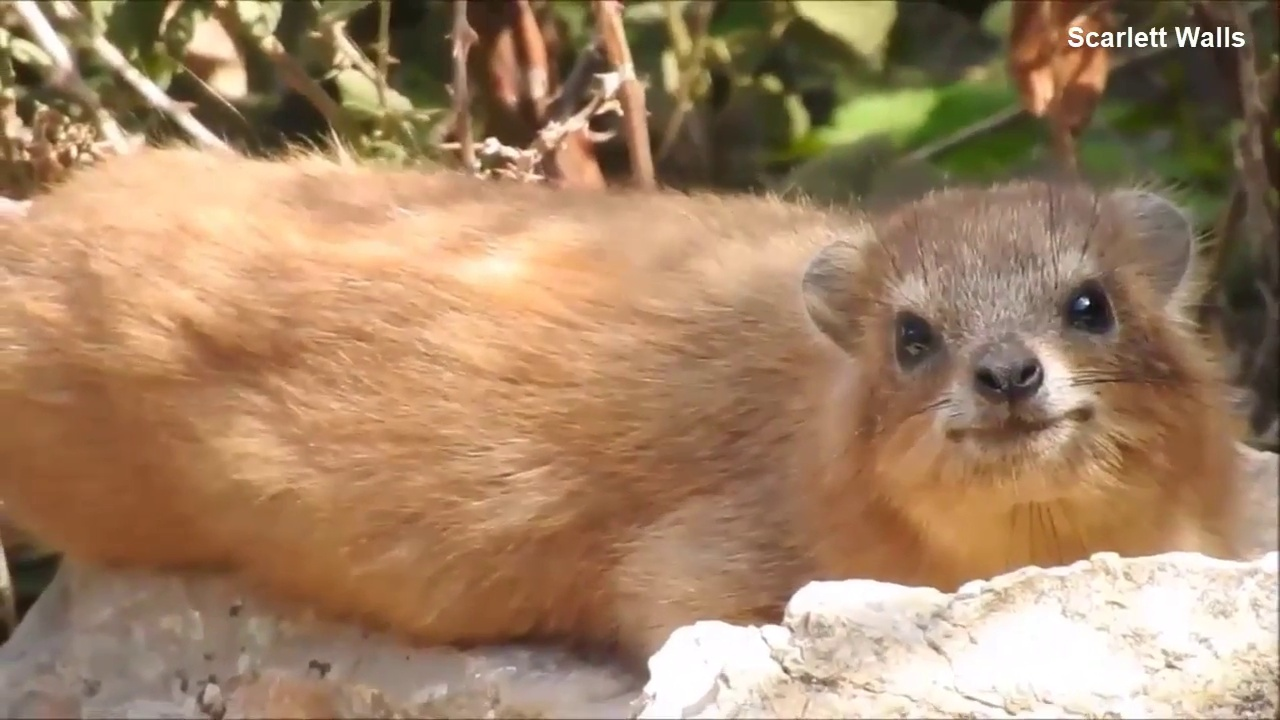Rock Hyrex: (6, 189, 1202, 570)
